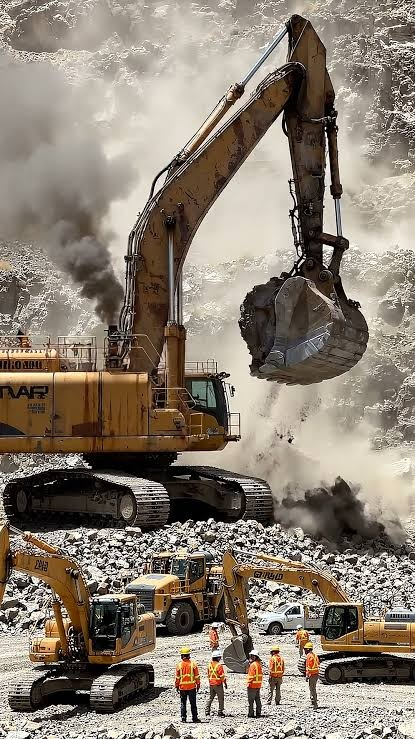excavator: (19, 32, 401, 438), (216, 532, 408, 692), (9, 519, 158, 714), (117, 515, 262, 636)
